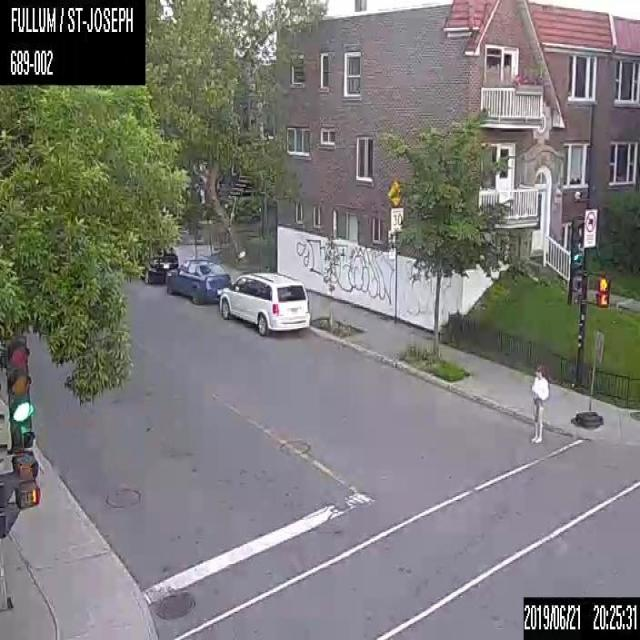construction: (570, 330, 602, 426)
pedestrian: (529, 366, 549, 446)
vehicle: (218, 271, 312, 336), (166, 255, 230, 304), (134, 246, 177, 284)
